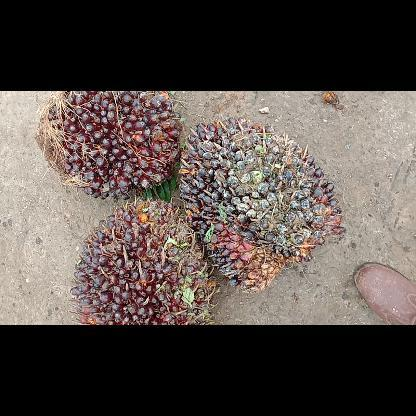Kurang masak: (71, 200, 213, 324), (38, 92, 180, 198)
TBS mentah: (181, 120, 341, 292)
